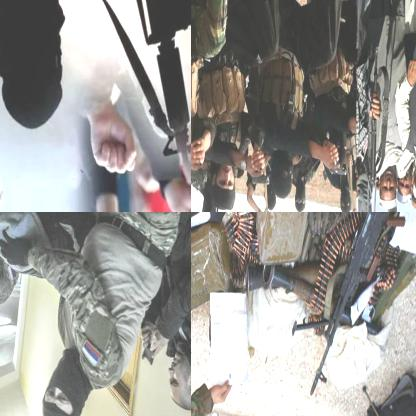pistol: (325, 142, 351, 180), (248, 156, 274, 189), (191, 144, 210, 187)
rifle: (289, 212, 414, 399), (125, 0, 190, 171), (261, 252, 376, 338), (365, 43, 387, 200)
